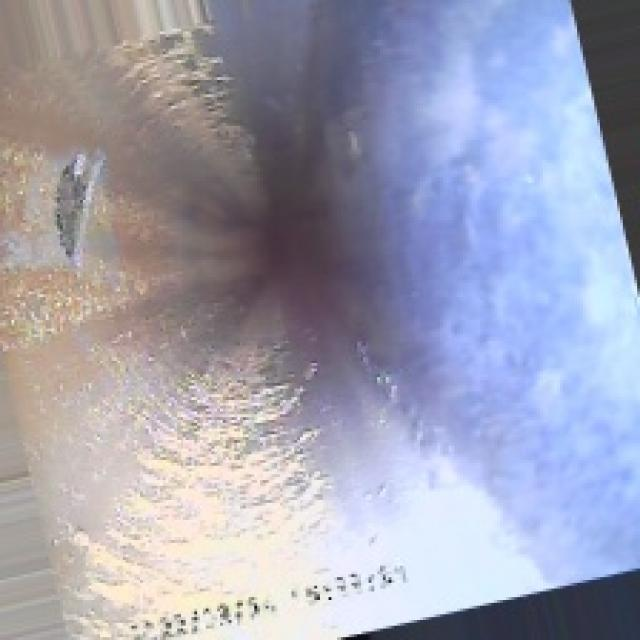pipe_surface_damage: (46, 143, 97, 266)
